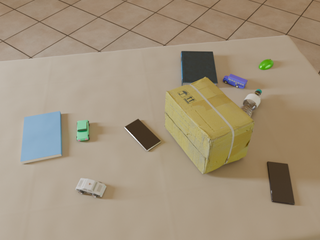book: (21, 111, 62, 164), (181, 51, 218, 86)
bottle: (240, 89, 262, 117)
box: (164, 77, 254, 174)
mouse: (259, 59, 273, 70)
phone: (267, 162, 295, 205), (125, 119, 161, 151)
toy_car: (76, 178, 106, 197), (223, 74, 247, 88), (77, 120, 89, 141)
